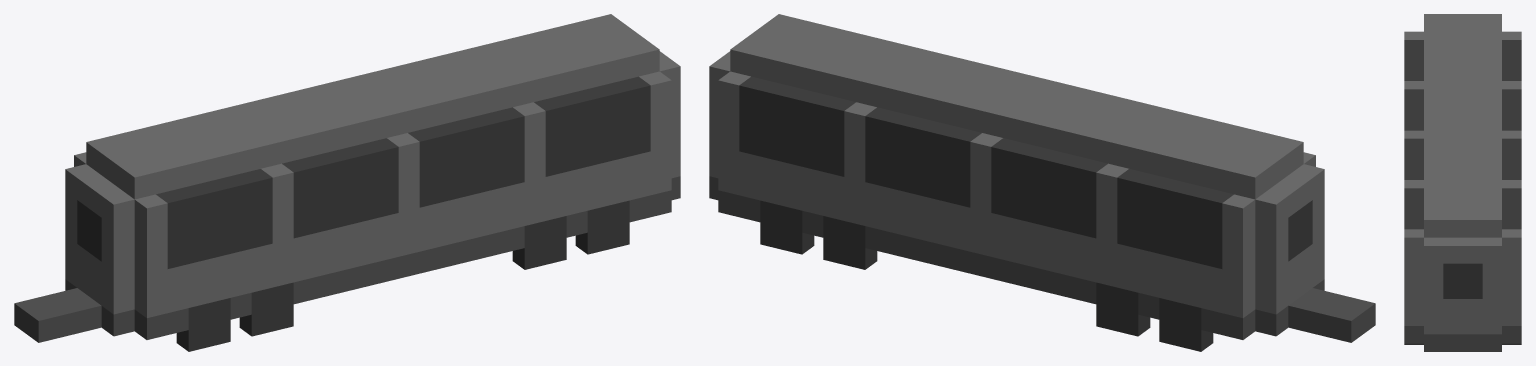
Rendered from train-trailer-v2-grey.gltf.
The picture shows the model from 3 angles, left to right: view 1: azimuth 30°, elevation 25°; view 2: azimuth 150°, elevation 25°; view 3: azimuth 270°, elevation 25°; orthographic projection. The views are drawn at different scales.
Parts seen in each view (by area): view 1: model, wheels; view 2: model, wheels; view 3: model.
Part boxes in pixels (left/top/right/bottom): model: left=14, top=14, right=680, bottom=342; wheels: left=176, top=200, right=629, bottom=351; model: left=709, top=14, right=1375, bottom=342; wheels: left=760, top=200, right=1213, bottom=351; model: left=1404, top=14, right=1521, bottom=351.
Size of the model in its own units: 3 by 0.8 by 0.6.
Materials: 2 (2 with a texture image).
